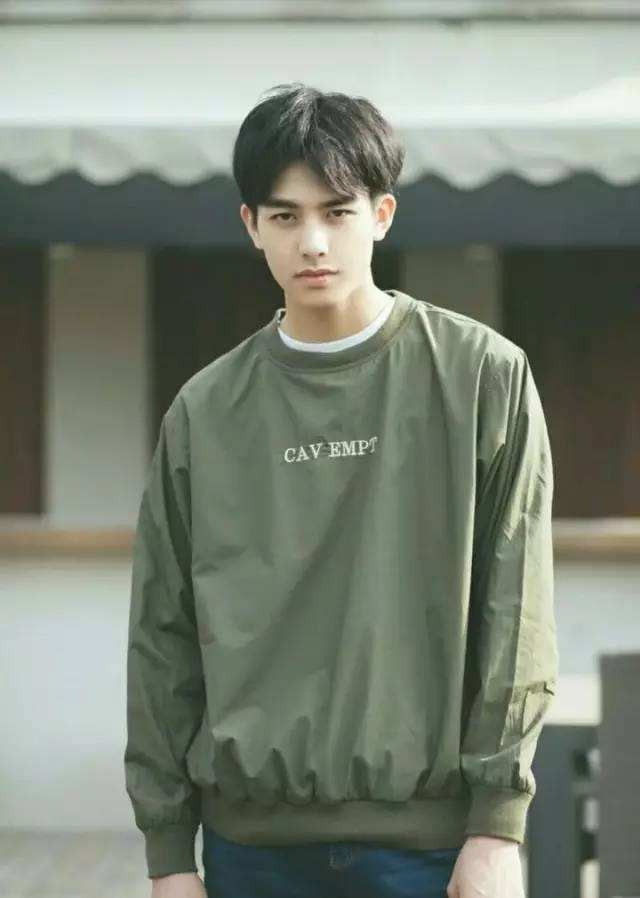person: (183, 97, 562, 898)
